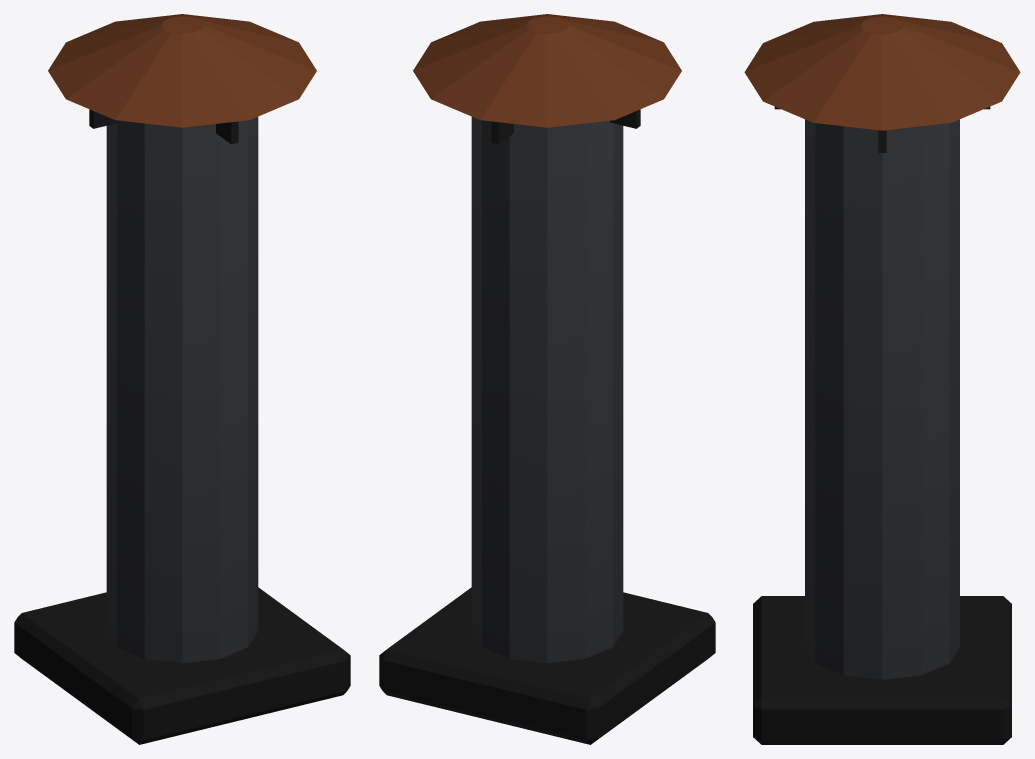
The model's file is vent_stack.glb.
3 renders of one model, left to right at view 1: azimuth 30°, elevation 25°; view 2: azimuth 150°, elevation 25°; view 3: azimuth 270°, elevation 25°, orthographic. The views are drawn at different scales.
Parts seen in each view (by area): view 1: vent_stack; view 2: vent_stack; view 3: vent_stack.
Part boxes in pixels (bbox=[...]): vent_stack: bbox=[14, 14, 350, 744]; vent_stack: bbox=[379, 14, 715, 744]; vent_stack: bbox=[744, 14, 1020, 744].
Bounding box in the file's own units: 0.64 × 1.71 × 0.64.
